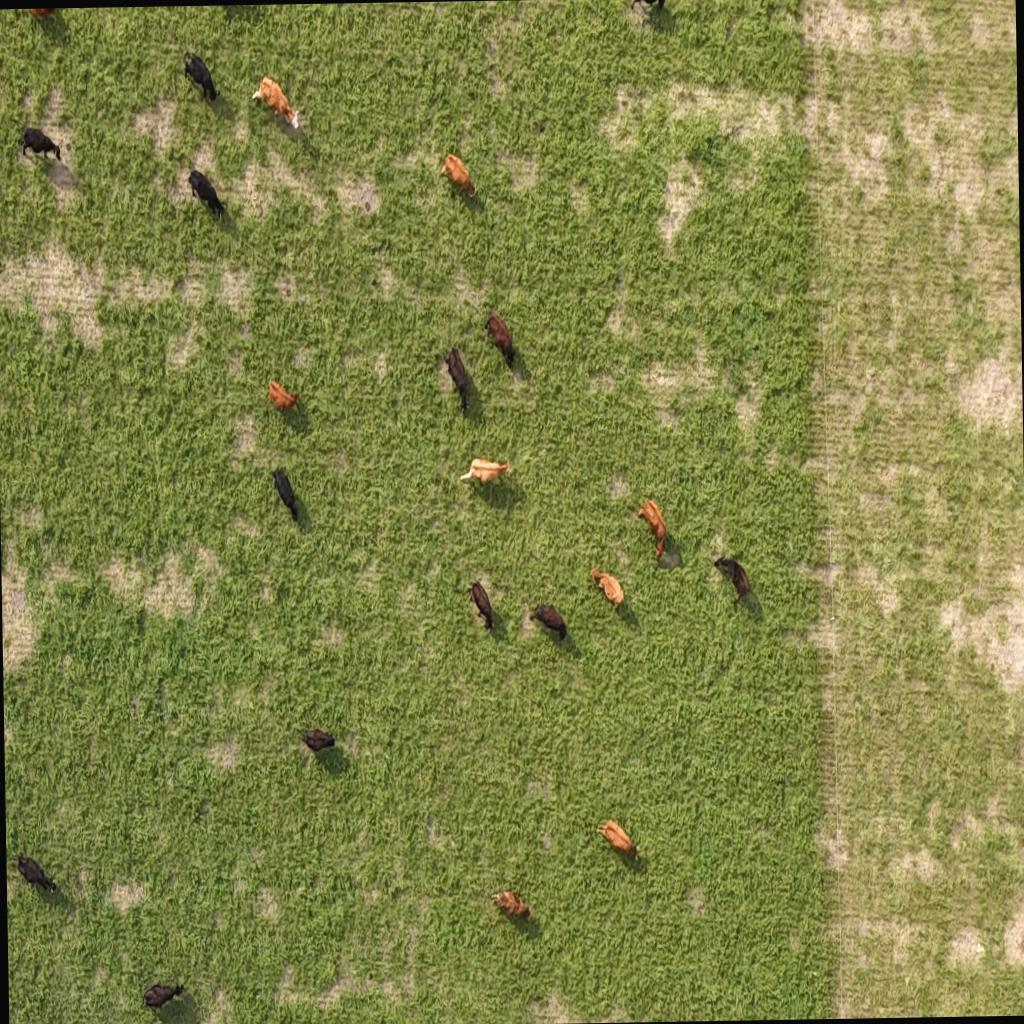cow: (634, 498, 678, 570), (248, 74, 302, 132), (180, 51, 224, 120), (436, 148, 478, 207), (18, 126, 65, 170), (15, 851, 59, 897), (188, 168, 225, 222), (442, 344, 470, 414), (270, 468, 302, 528), (526, 599, 568, 644), (590, 562, 627, 613), (595, 818, 639, 858), (142, 980, 189, 1016), (712, 556, 750, 600), (484, 311, 514, 366), (459, 455, 512, 486), (468, 577, 494, 632), (22, 8, 66, 40), (491, 888, 531, 922), (266, 377, 300, 416), (298, 726, 336, 759), (632, 0, 668, 19)
